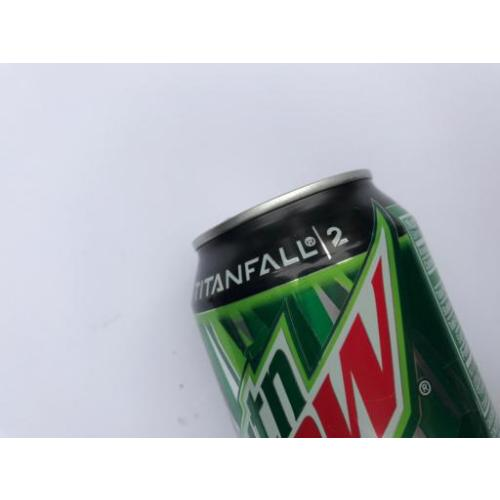metal: (188, 172, 494, 437)
